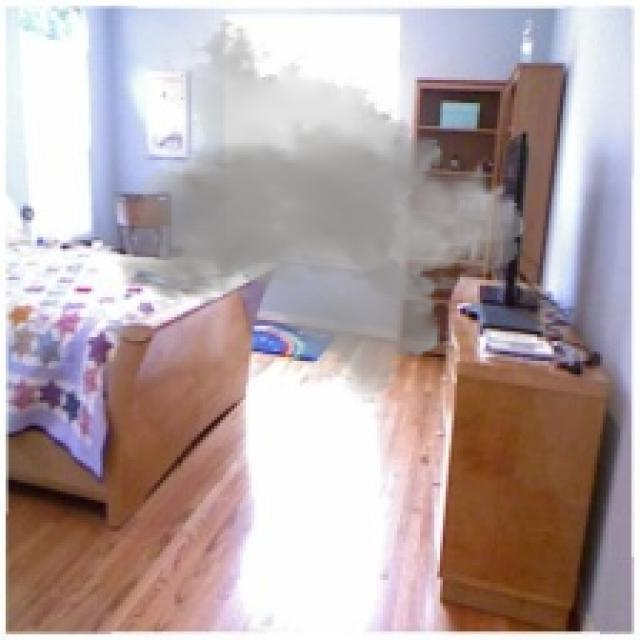Smoke: (117, 17, 526, 406)
